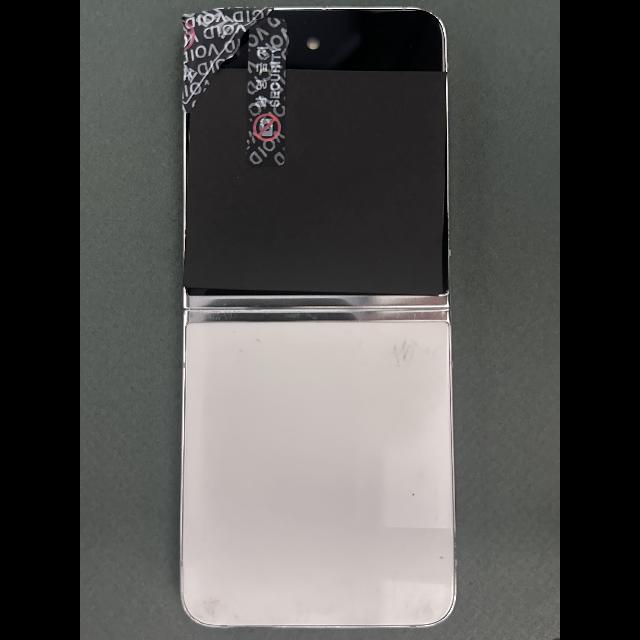phone: (180, 7, 457, 628)
sticker: (181, 7, 276, 114), (246, 17, 287, 167)
